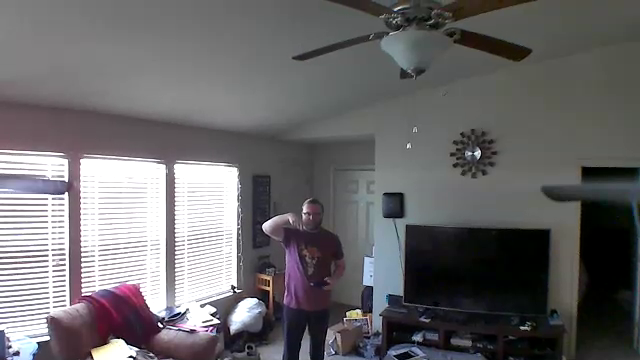down: (283, 209, 309, 237)
